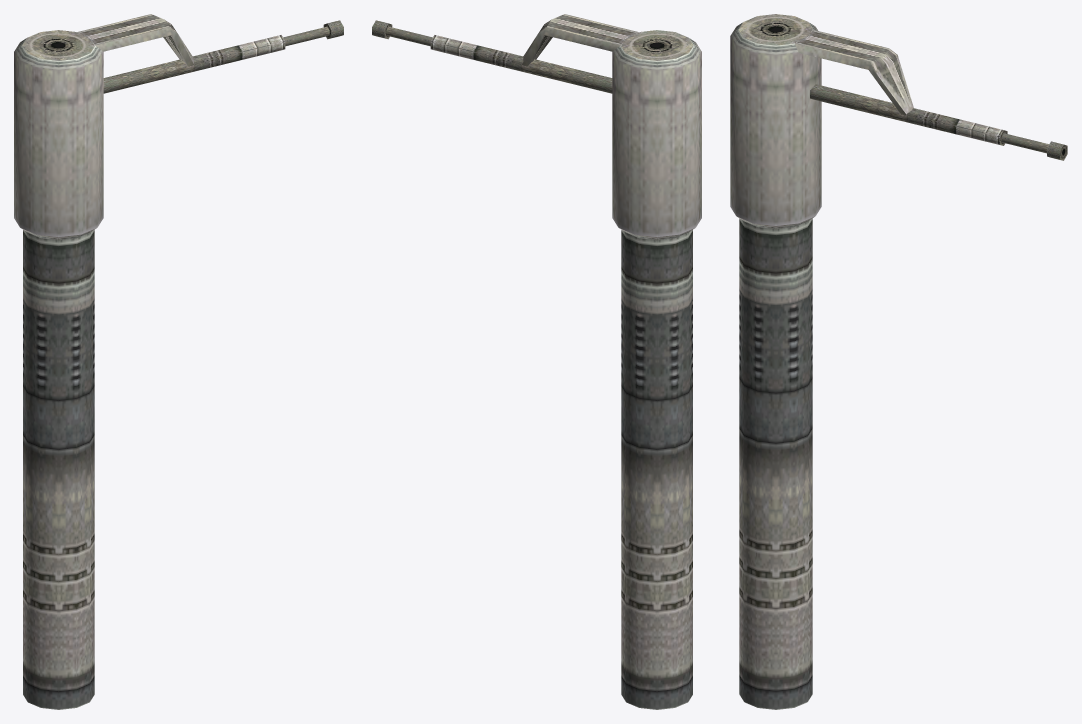
File: ins_all_mobile_ore_refinery_drill_l0.fbx
3 renders of one model, left to right at view 1: azimuth 30°, elevation 25°; view 2: azimuth 150°, elevation 25°; view 3: azimuth 330°, elevation 25°, orthographic. The views are drawn at different scales.
Visible parts, largest first — view 1: mesh_node; view 2: mesh_node; view 3: mesh_node.
Part boxes in pixels (x1,y1,x2,y2): mesh_node: (14,14,343,709); mesh_node: (372,14,701,709); mesh_node: (730,14,1067,709).
Bounding box in the file's own units: 1.93 × 3.74 × 0.4667.
